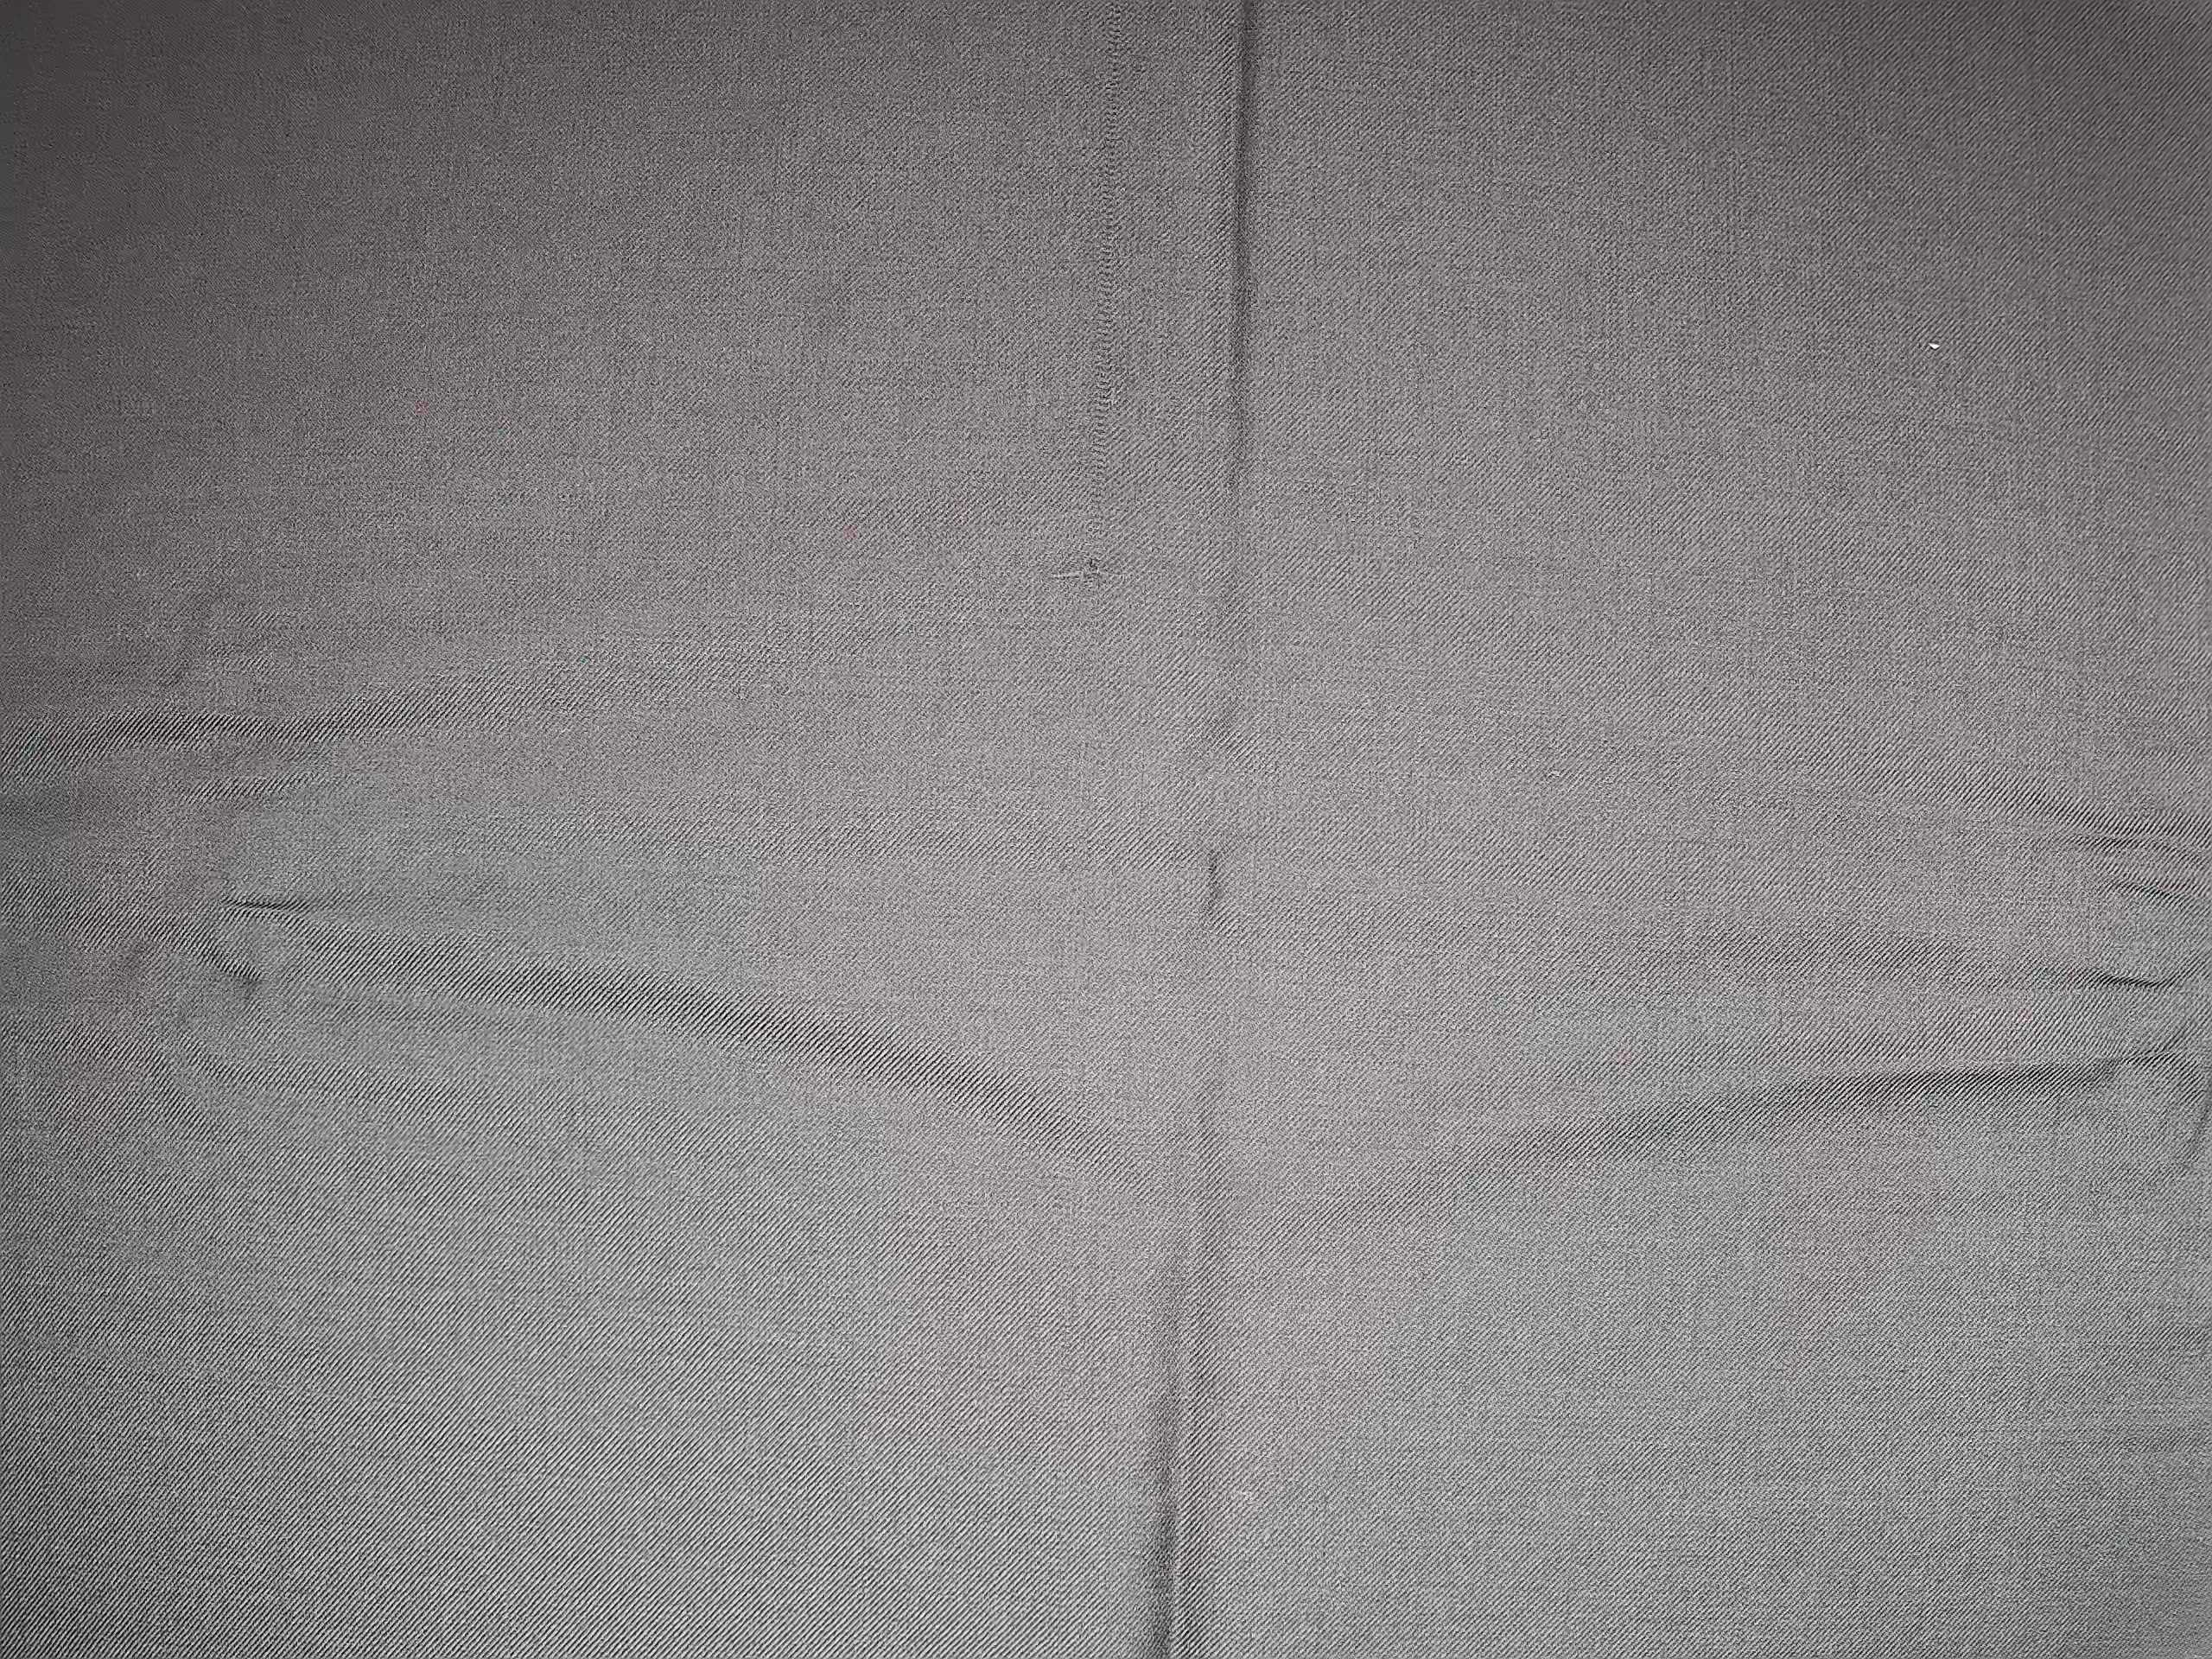hanging-warp: (1057, 3, 1146, 622)
